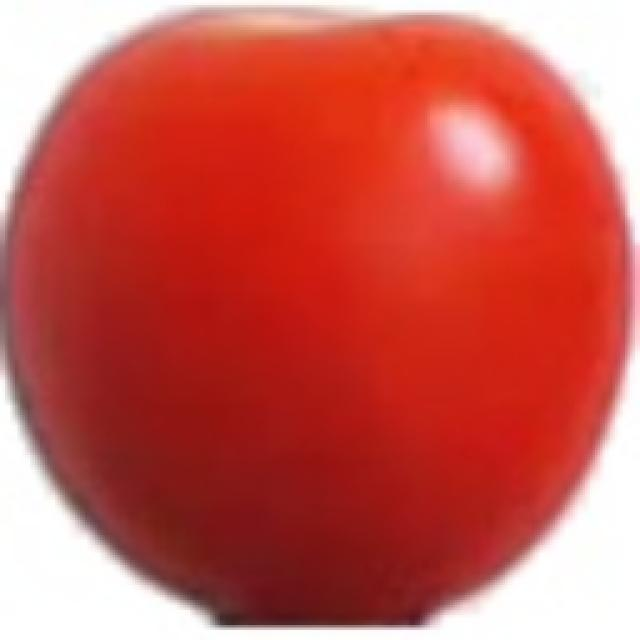tomato: (0, 8, 631, 630)
